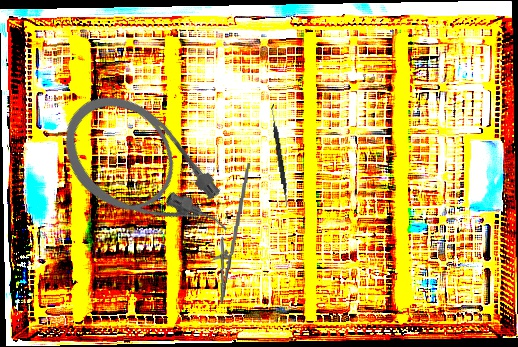Cannula: (41, 73, 251, 279)
Needle Holder: (209, 161, 251, 305)
Spatula Surgical: (267, 103, 292, 207)
